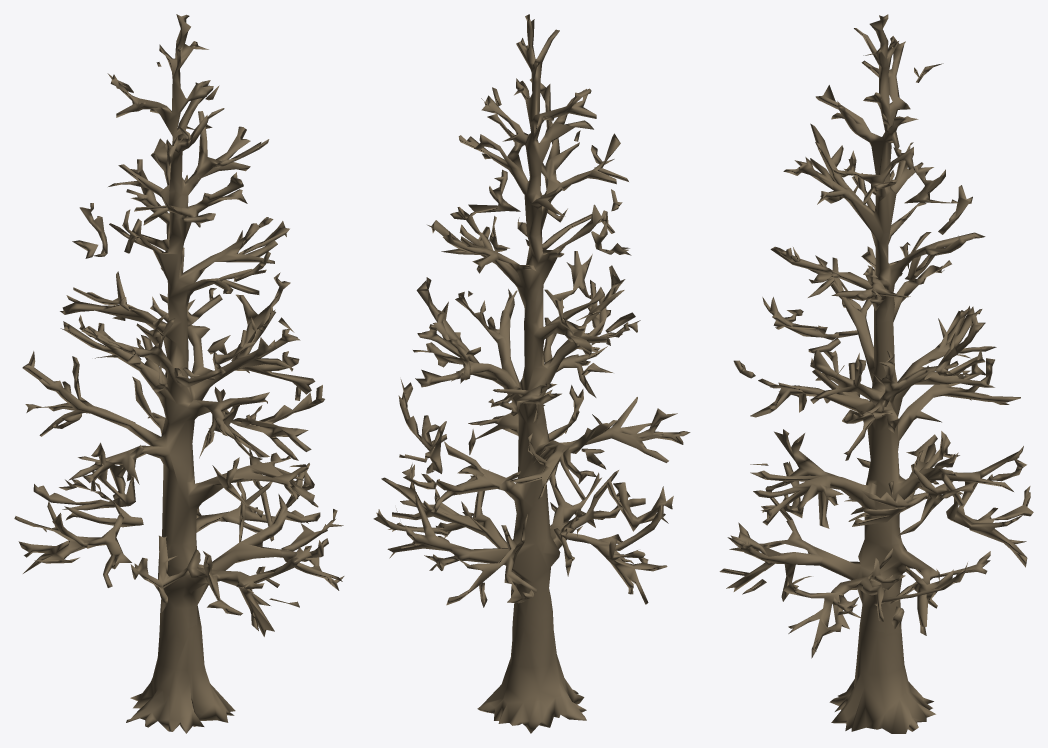
File: winter_tree_lod1.glb
The picture shows the model from 3 angles, left to right: view 1: azimuth 30°, elevation 25°; view 2: azimuth 150°, elevation 25°; view 3: azimuth 270°, elevation 25°; orthographic projection.
Size of the model in its own units: 0.8141 by 1.9 by 0.771.
1 material, 1 textured.
